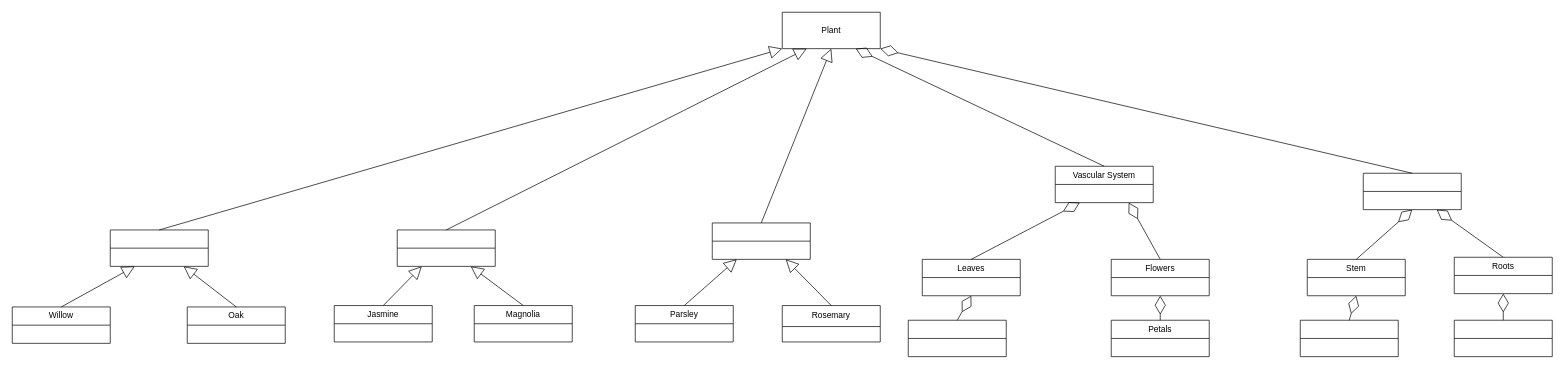
Image size: 1565x369. Some labels were removed from this diagram. Here are the shapes that lost their labels. From the top down, the centre of each, then its label:
At point 1412,191: "Support System".
At point 159,247: "Trees".
At point 446,247: "Shrubs".
At point 761,240: "Herbs".
At point 957,338: "Veins".
At point 1349,338: "Nodes".
At point 1503,338: "Root Hairs".
